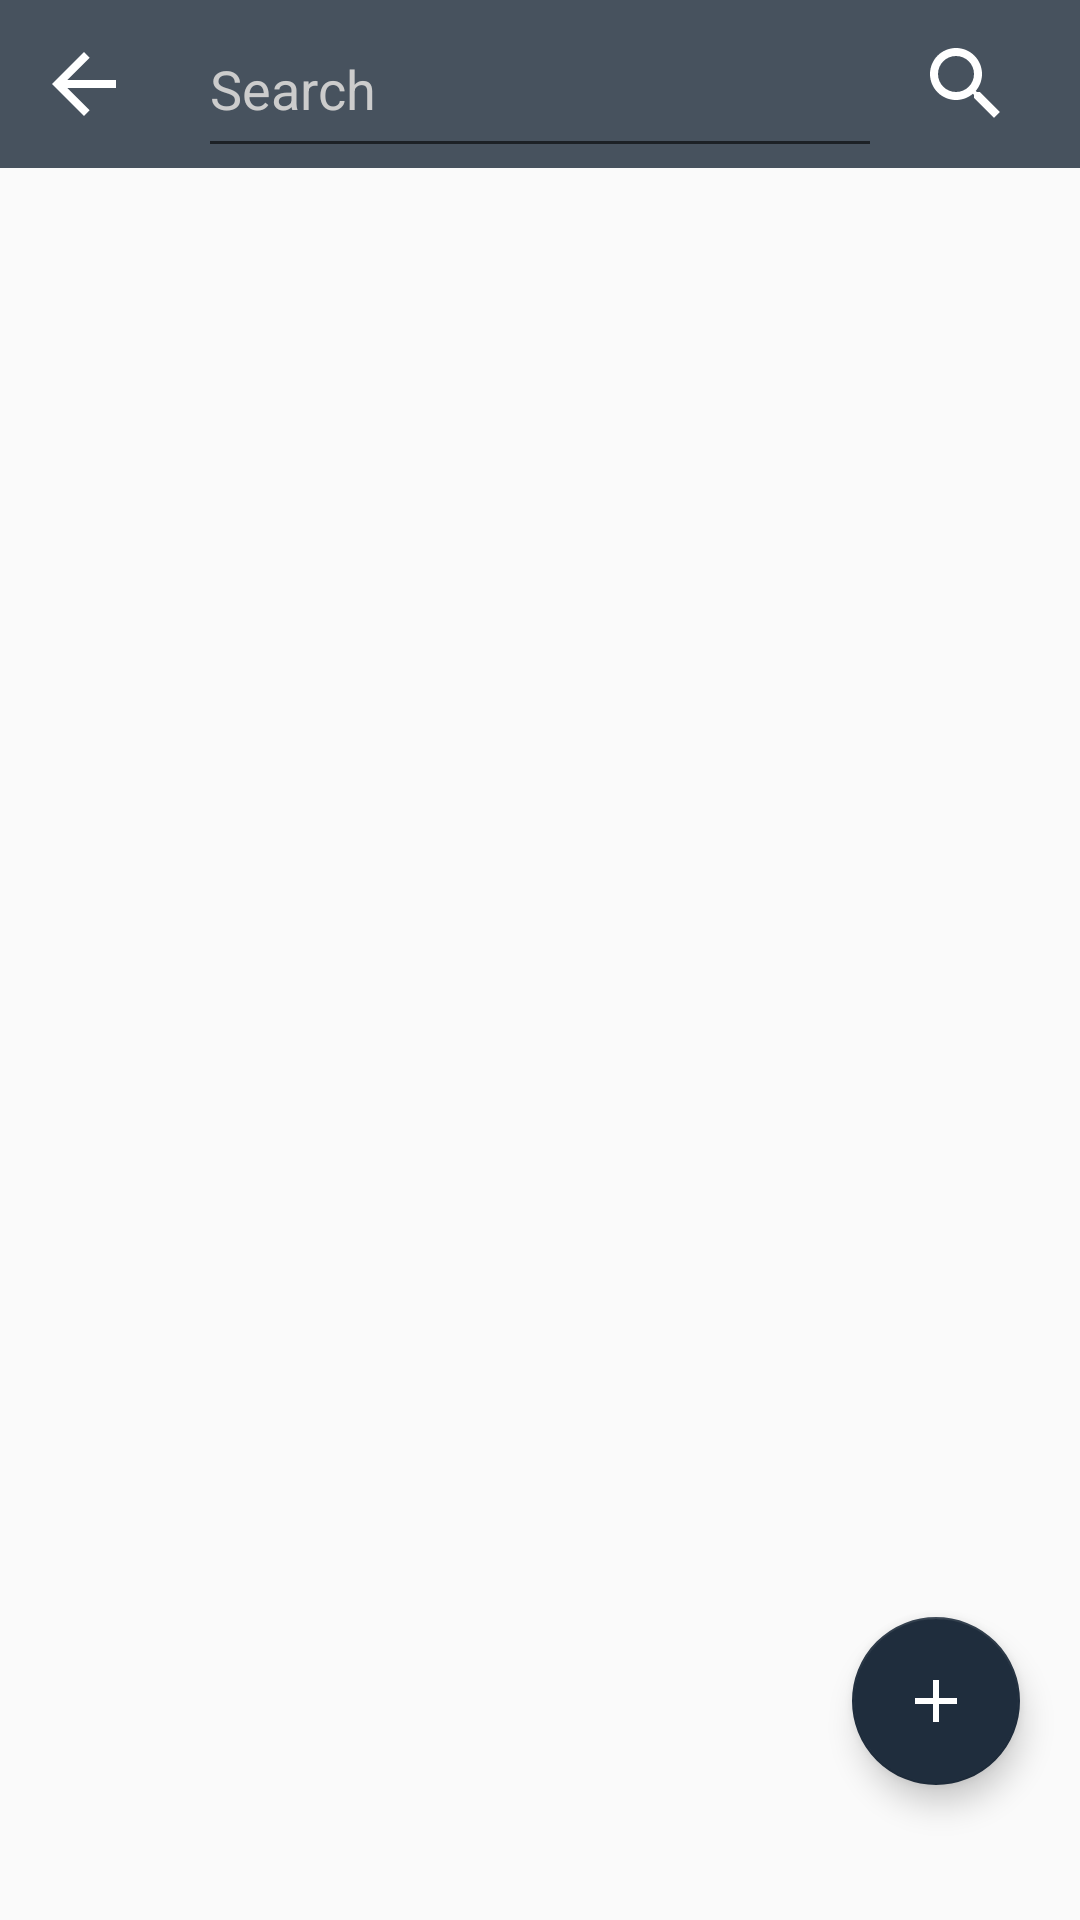

Screen size 1080x1920. Icon name, then its box in pixels as rect(x1, y1, x2, y2):
add: rect(852, 1617, 1020, 1785)
arrow back: rect(52, 52, 116, 116)
